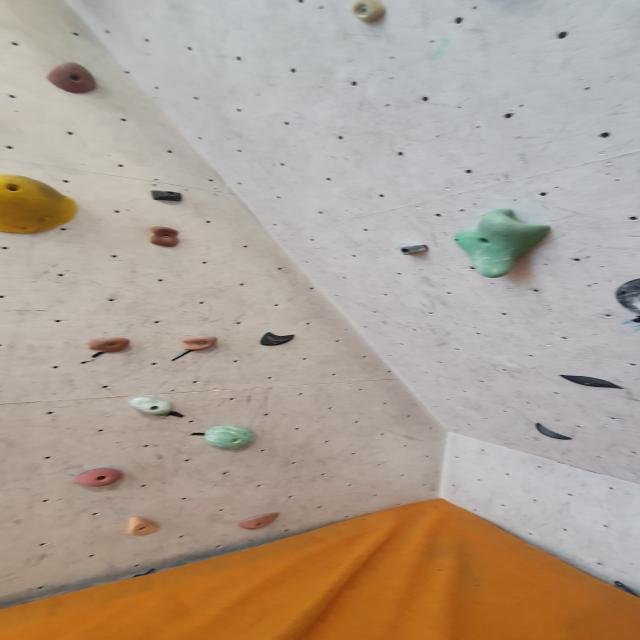Crimp: (346, 0, 391, 26), (236, 512, 282, 532)
Jug: (449, 204, 559, 279), (45, 60, 102, 96), (70, 466, 128, 489), (83, 338, 133, 357), (145, 226, 183, 250), (181, 337, 221, 355)
Pinch: (130, 394, 177, 417), (122, 515, 163, 540), (390, 240, 439, 260), (142, 187, 190, 204)
Pocket: (612, 276, 640, 320)
Sloper: (0, 174, 83, 239), (203, 425, 259, 452)
